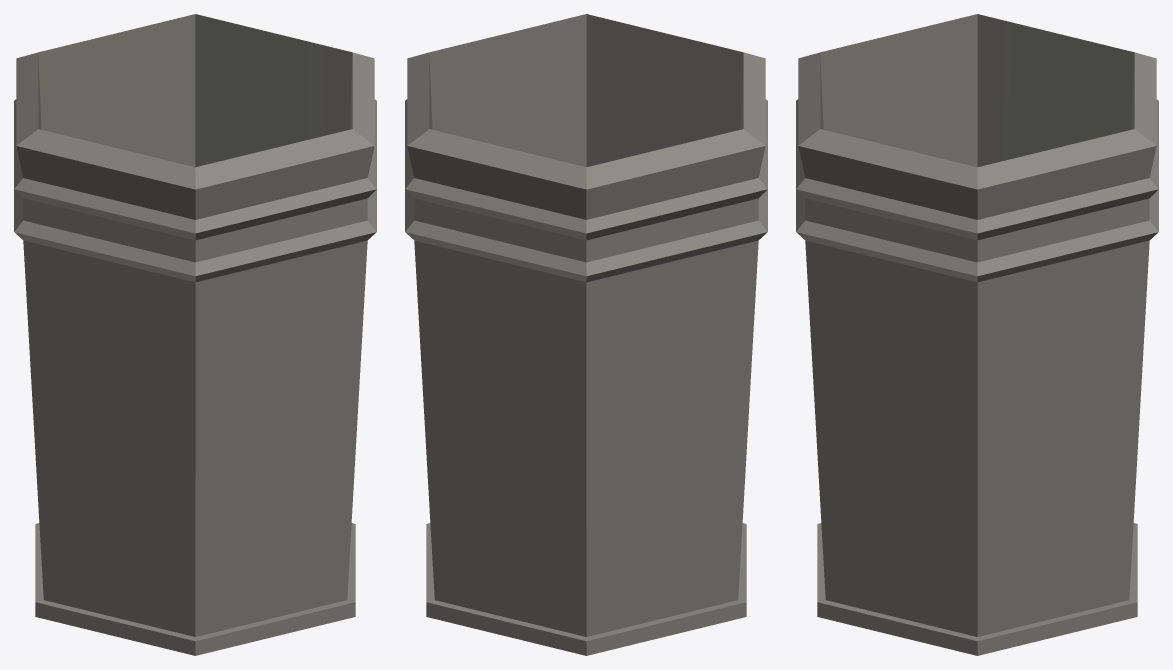
File: garbage_can.fbx
3 views of the same model, side by side, from view 1: azimuth 30°, elevation 25°; view 2: azimuth 150°, elevation 25°; view 3: azimuth 270°, elevation 25° (orthographic).
Parts seen in each view (by area): view 1: trash_can; view 2: trash_can; view 3: trash_can.
Part boxes in pixels (box(x1,y1,x2,y2)): trash_can: box(14, 14, 376, 655); trash_can: box(405, 14, 767, 655); trash_can: box(796, 14, 1158, 655).
Size of the model in its own units: 99.38 by 128 by 86.07.
